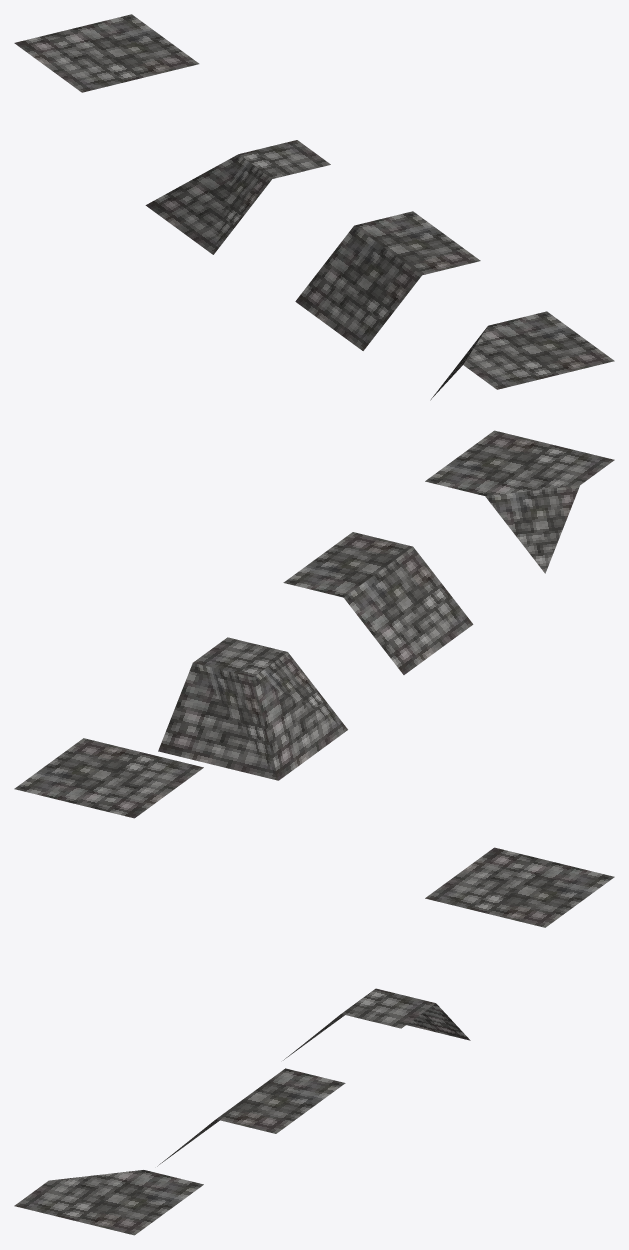
File: top.glb
3 views of the same model, one above another, from view 1: azimuth 30°, elevation 25°; view 2: azimuth 150°, elevation 25°; view 3: azimuth 330°, elevation 25° (orthographic). The views are drawn at different scales.
Parts seen in each view (by area): view 1: wall-top-col, connerin-top-col, floor-top-col, connerout-top-col; view 2: connerin-top-col, wall-top-col, connerout-top-col, floor-top-col; view 3: floor-top-col, connerout-top-col, wall-top-col, connerin-top-col.
Boxes of the visible parts, x1,y1,x2,y2 form: wall-top-col: (295, 211, 480, 350); connerin-top-col: (145, 140, 330, 254); floor-top-col: (14, 14, 199, 92); connerout-top-col: (430, 311, 614, 400); connerin-top-col: (158, 637, 347, 780); wall-top-col: (283, 532, 473, 674); connerout-top-col: (425, 430, 614, 573); floor-top-col: (14, 738, 203, 818); floor-top-col: (425, 847, 614, 927); connerout-top-col: (14, 1170, 203, 1235); wall-top-col: (157, 1068, 345, 1166); connerin-top-col: (283, 988, 470, 1060).
Size of the model in its own units: 1.12 by 0.5 by 7.
Materials: 1 (1 with a texture image).
